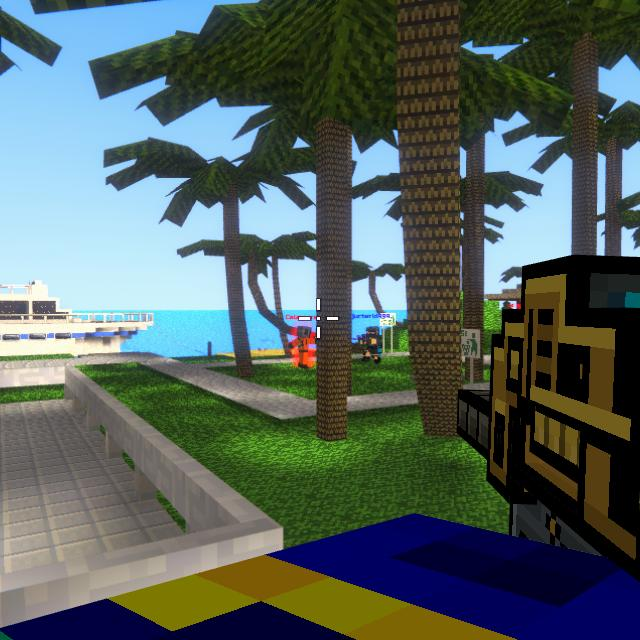Enemy: (288, 326, 316, 368)
